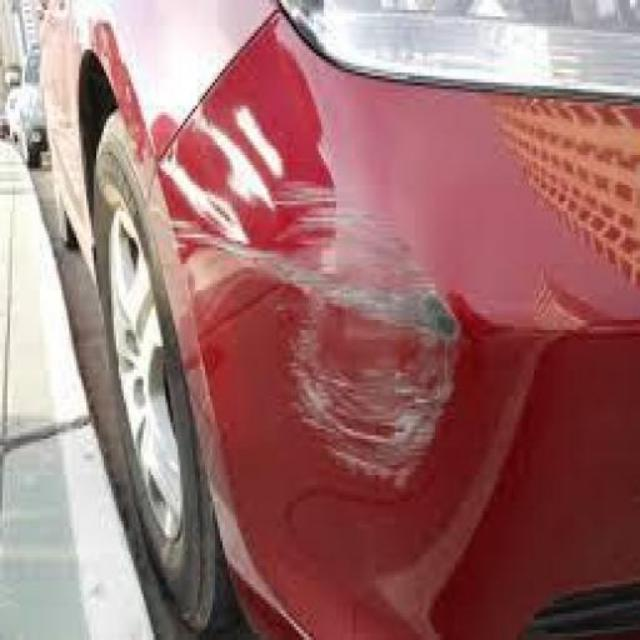rub: (274, 178, 462, 498)
